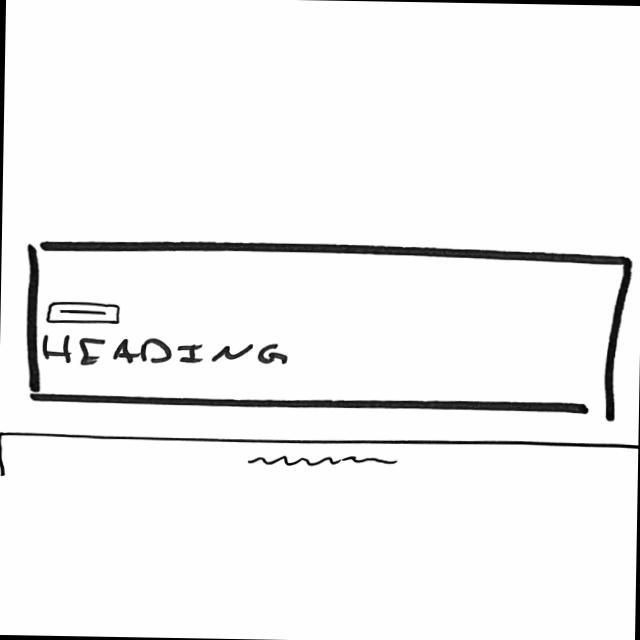container: (23, 237, 637, 416)
icon-button: (44, 299, 127, 327)
label: (40, 331, 290, 374)
text: (245, 451, 399, 475)
